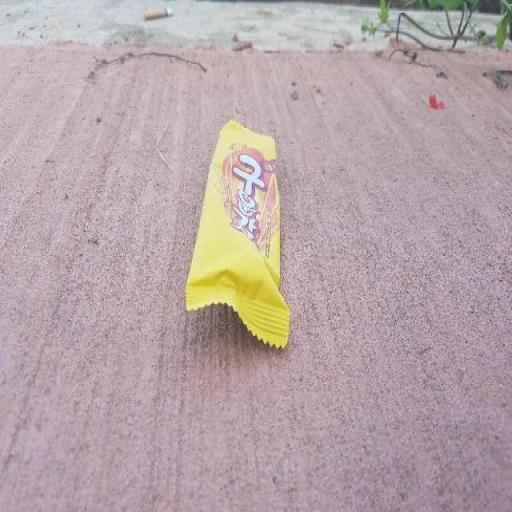plastic-bag: (184, 116, 294, 352)
